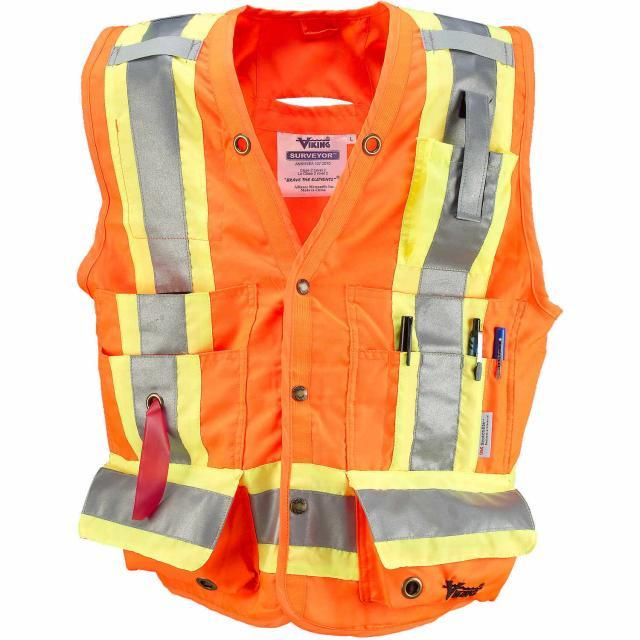reflective_jacket: (34, 0, 591, 639)
